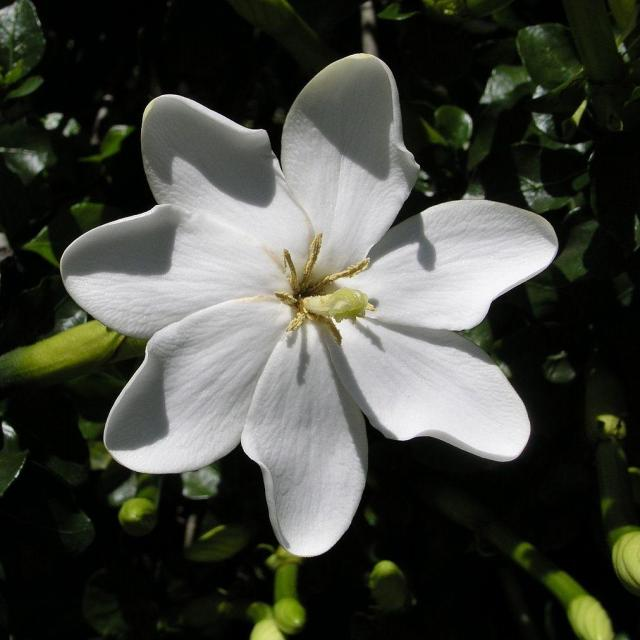organic waste: (61, 49, 550, 550)
